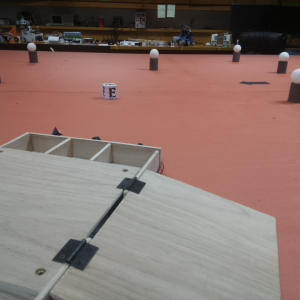obstacle: (286, 69, 300, 103), (277, 52, 290, 74), (149, 50, 161, 71), (28, 42, 38, 64), (232, 45, 241, 64)
slope: (50, 169, 284, 300)
